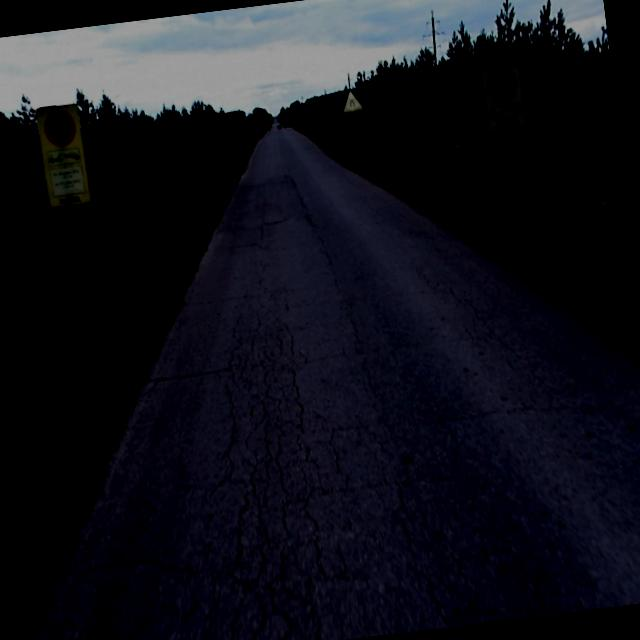road: (36, 129, 640, 640)
